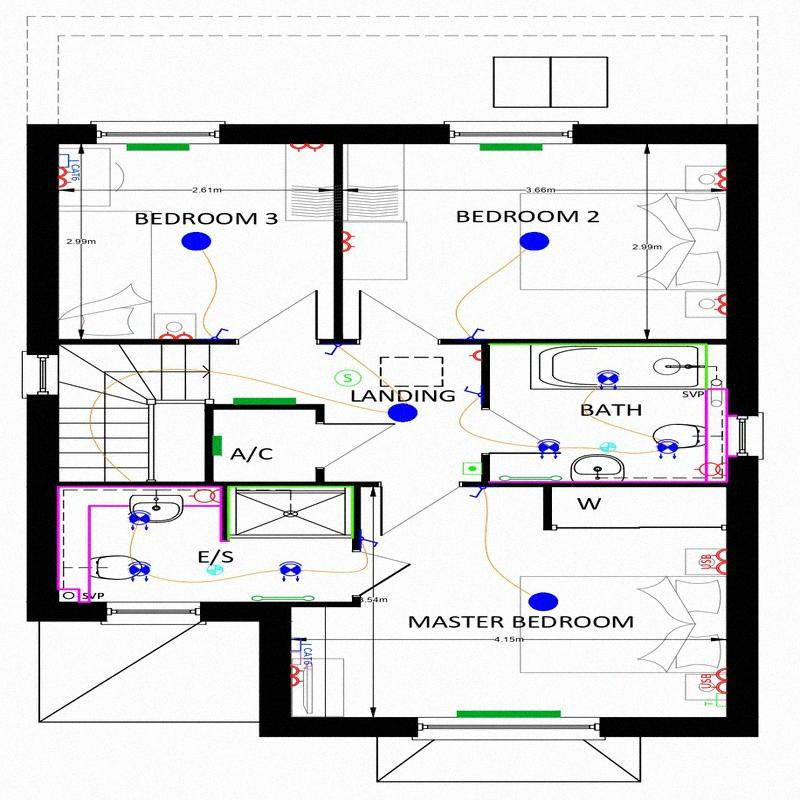Cat 6 Data Socket: (59, 153, 80, 180), (291, 640, 312, 666)
Ceiling Mounted Continuous Extract FanWith Boost Mode Activated By Light Switch: (207, 564, 223, 575), (600, 442, 616, 452)
Co-Ax TV Socket: (290, 651, 312, 670)
Double Socket: (290, 143, 323, 153), (342, 230, 355, 253), (59, 167, 72, 189), (159, 331, 194, 339), (290, 666, 303, 687), (714, 293, 727, 314), (714, 168, 726, 188)
Full Height Tiling: (490, 342, 707, 388), (226, 486, 354, 539)
Light Switch: (361, 535, 378, 549), (468, 327, 485, 340), (469, 487, 487, 499), (464, 386, 481, 398), (324, 345, 342, 356), (212, 328, 229, 339)
Low Energy Downlighter: (279, 561, 302, 582), (656, 438, 679, 459), (127, 510, 151, 530), (596, 370, 620, 390), (538, 439, 560, 459), (128, 562, 151, 581)
Low Energy Pendant Light: (180, 231, 212, 251), (520, 231, 549, 251), (528, 592, 558, 611), (388, 404, 418, 422)
Mains Wired Smoke Detector: (334, 369, 362, 387)
Programmable Room Thermostat: (462, 462, 482, 475)
Radiator: (457, 710, 562, 718), (480, 144, 542, 151), (233, 398, 296, 404), (126, 144, 189, 150), (212, 436, 222, 456)
Shaver Socket: (188, 488, 220, 506), (694, 462, 725, 478)
Single Socket: (468, 350, 481, 361)
Telephone Socket: (704, 693, 726, 706)
USB Double Socket: (701, 668, 726, 693), (702, 549, 727, 574)
